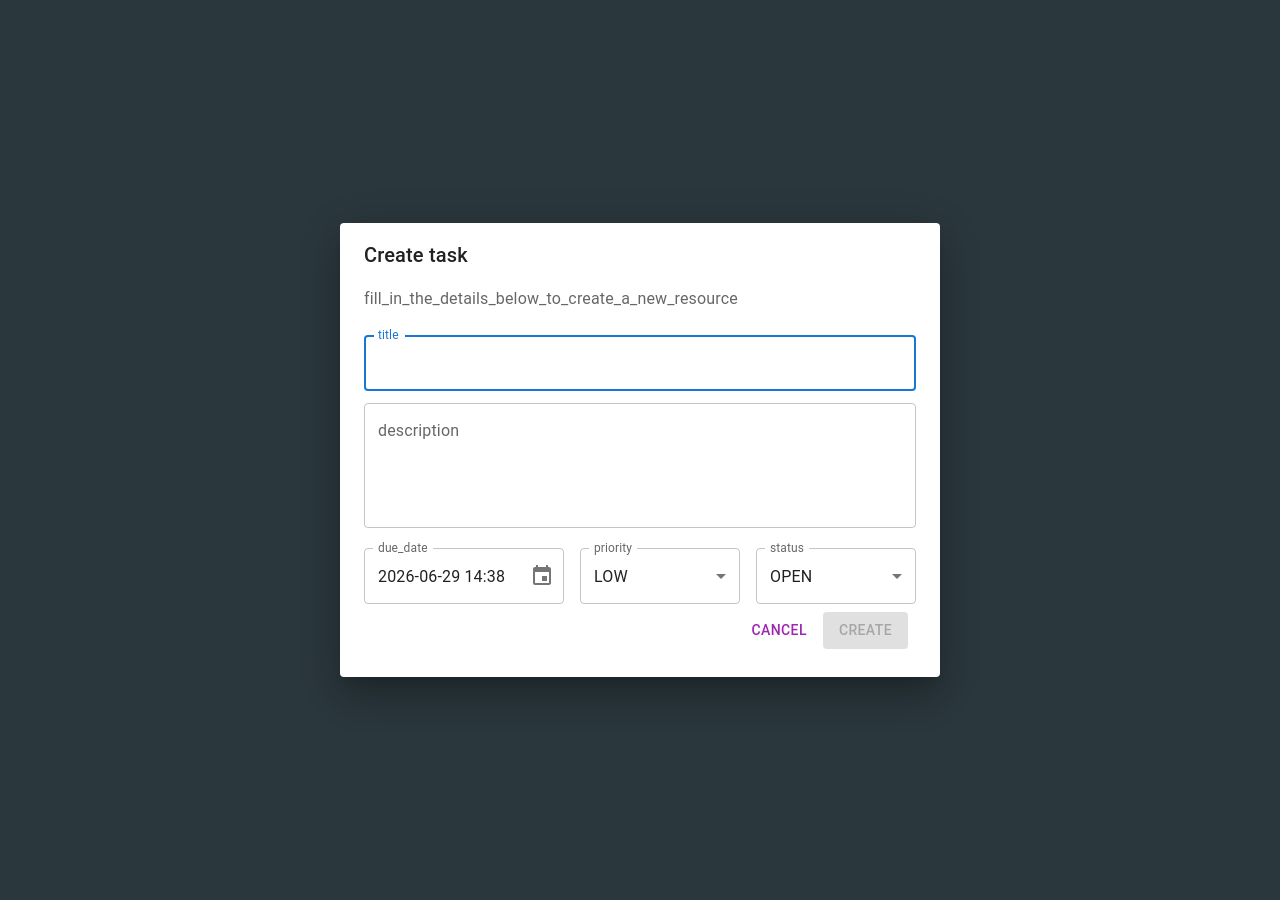
<TaskDialog /> › updates the priority selection
Step 1. Press the mouse on the dropdown labelled "LOW" → (611, 576), box [594,567,628,586]
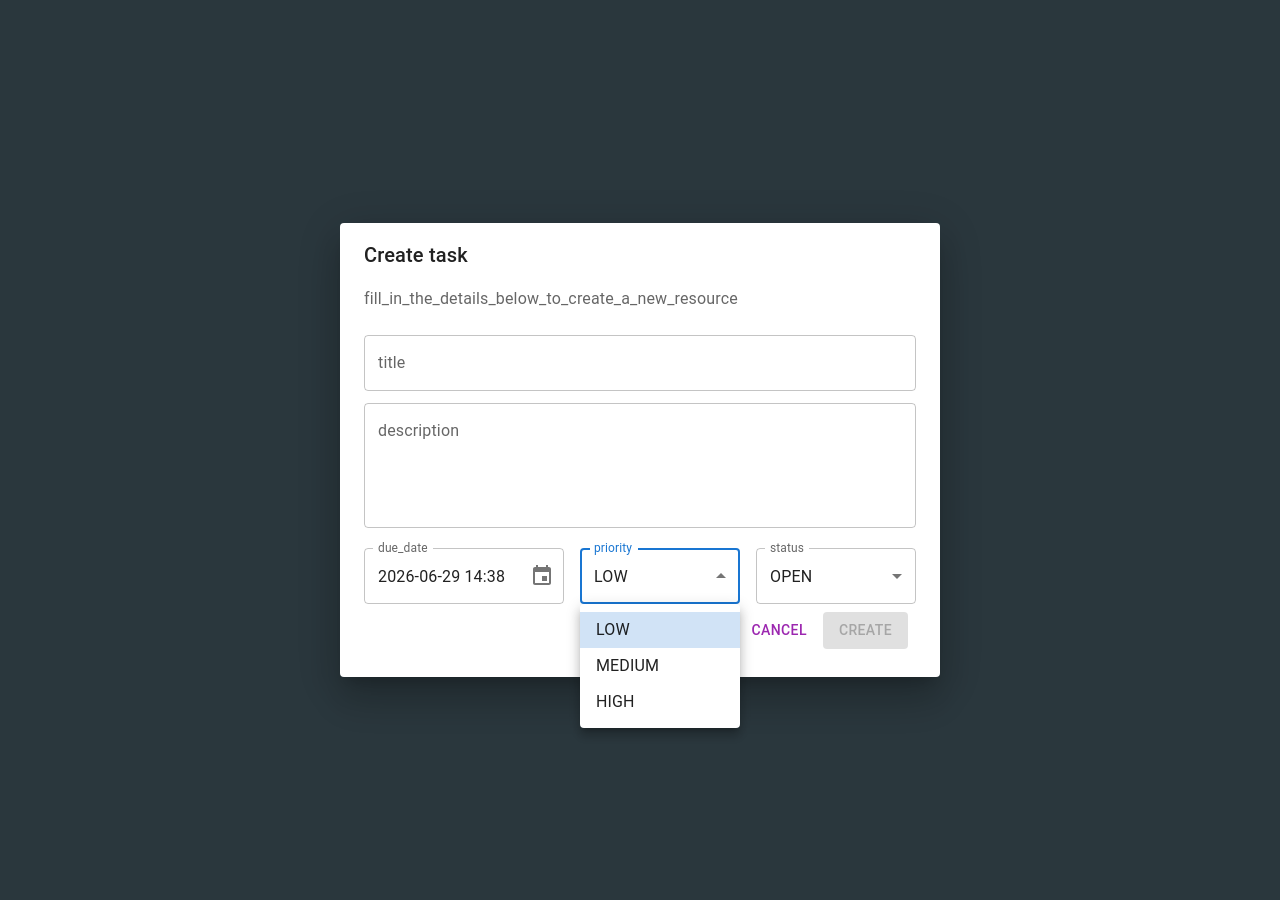
Step 2. Click the option "HIGH" → click(615, 702), box [596,692,635,711]
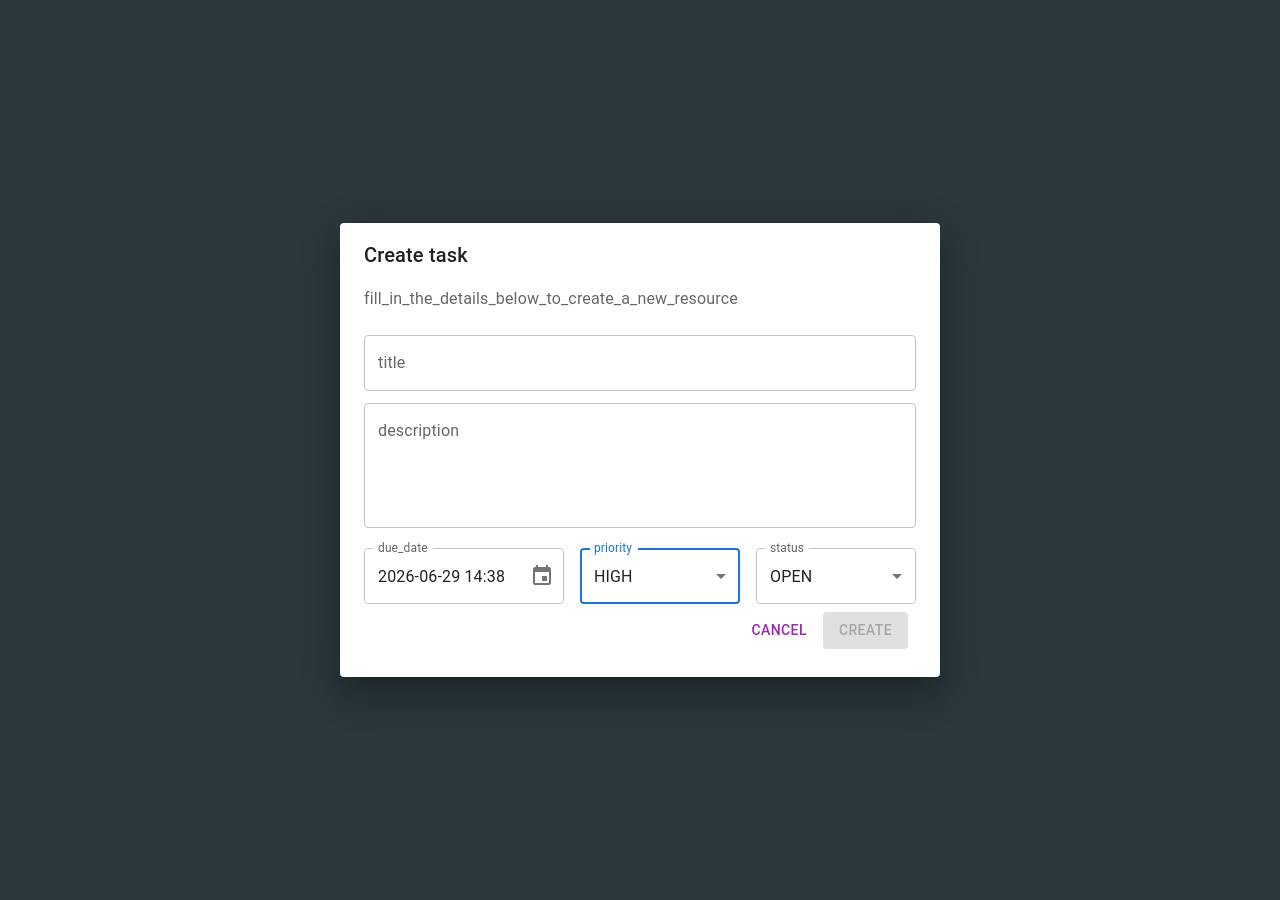
Now the dropdown labelled "HIGH" is shown, box [594,567,633,586]
